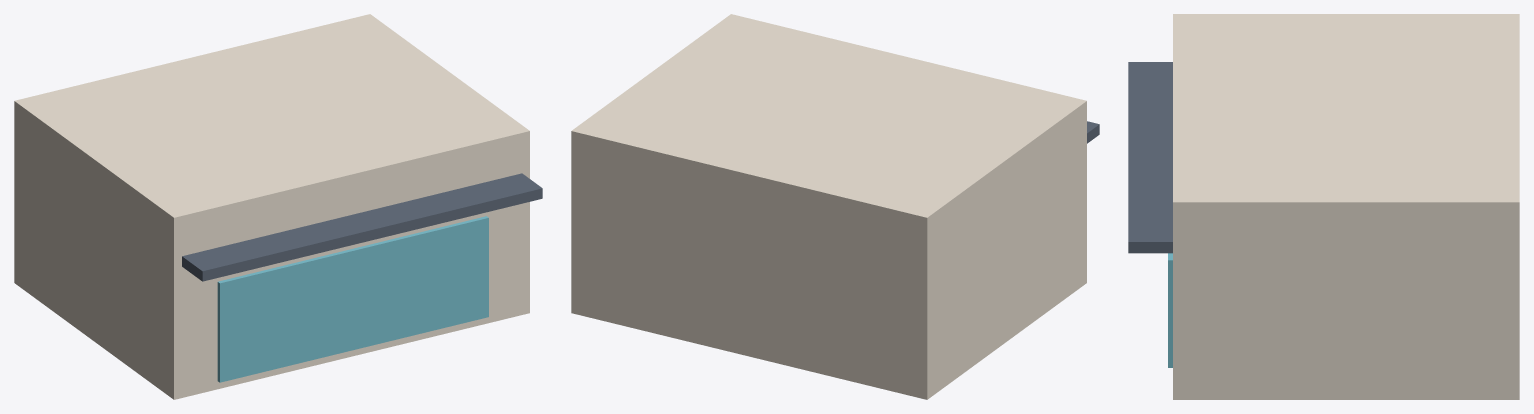
File: shop_coastal_01_clean.glb
3 views of the same model, side by side, from view 1: azimuth 30°, elevation 25°; view 2: azimuth 150°, elevation 25°; view 3: azimuth 270°, elevation 25° (orthographic). The views are drawn at different scales.
Visible parts, largest first — view 1: Cube, Cube.001, Cube.002; view 2: Cube; view 3: Cube, Cube.002, Cube.001.
Boxes of the visible parts, x1=… form: Cube: x1=14, y1=14, x2=529, y2=399; Cube.001: x1=217, y1=216, x2=488, y2=382; Cube.002: x1=182, y1=173, x2=542, y2=281; Cube: x1=571, y1=14, x2=1086, y2=399; Cube: x1=1173, y1=14, x2=1519, y2=399; Cube.002: x1=1128, y1=62, x2=1172, y2=253; Cube.001: x1=1168, y1=253, x2=1172, y2=367.
Size of the model in its own units: 9 by 4.4 by 7.9.
